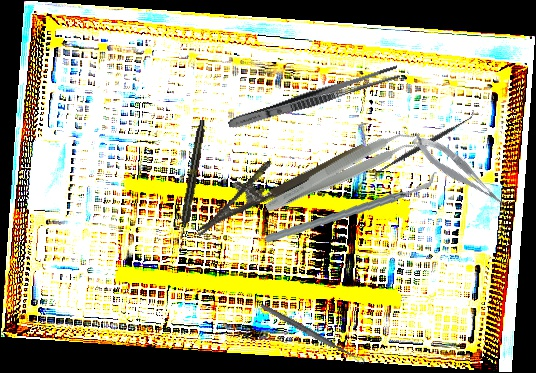Chopper: (264, 157, 438, 259)
Dressing Forceps: (226, 62, 401, 134)
Handpiece: (176, 119, 208, 240)
Micro Scissor: (408, 125, 509, 218)
Needle Holder: (182, 120, 368, 237)
Spatula Surgical: (369, 109, 480, 180)
Surgical Spoon: (259, 302, 366, 366)
Tissue Forceps: (261, 123, 422, 224)
